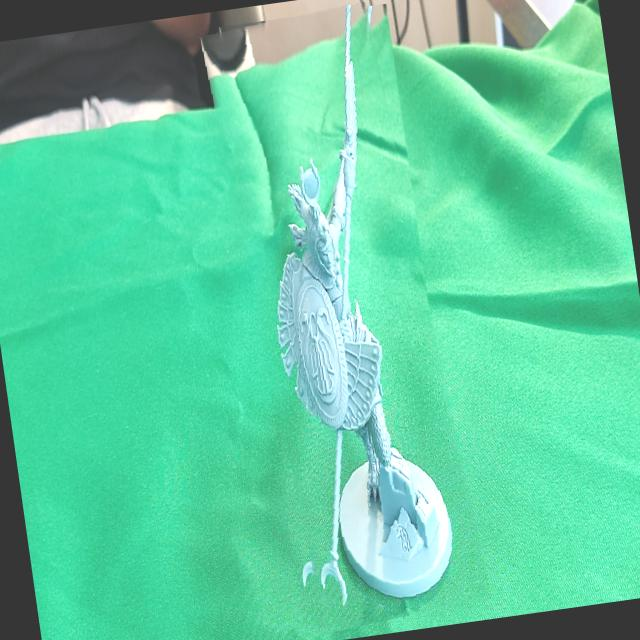isis: (208, 0, 482, 635)
